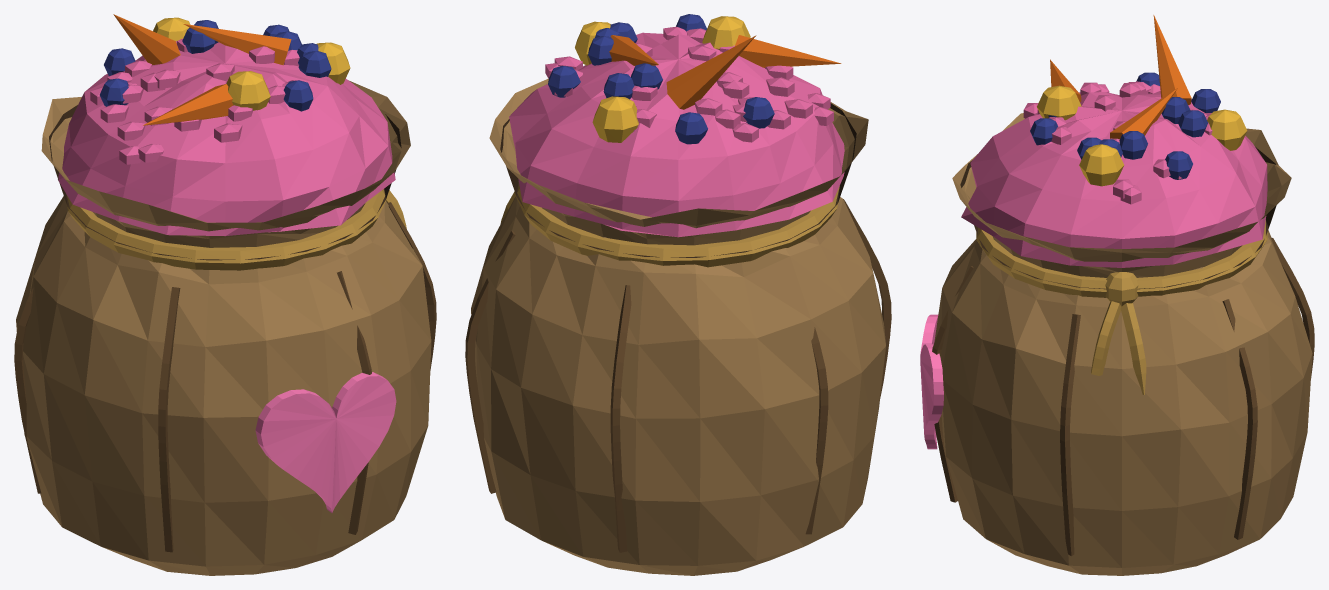
Rendered from VFP_Feed_FreyaLure.obj.
3 views of the same model, side by side, from view 1: azimuth 30°, elevation 25°; view 2: azimuth 150°, elevation 25°; view 3: azimuth 270°, elevation 25° (orthographic). The views are drawn at different scales.
Parts seen in each view (by area): view 1: Sack, Feed, Symbol, Cord, Folds, Carrots, Berries, Mush, SackInner; view 2: Sack, Feed, Folds, Cord, Berries, Carrots, Mush, SackInner; view 3: Sack, Feed, Cord, Folds, Berries, Mush, Carrots, Symbol, SackInner.
Boxes of the visible parts, box(x1,y1,x2,y2) form: Sack: box(16, 80, 431, 575); Feed: box(58, 38, 395, 236); Symbol: box(255, 372, 396, 512); Cord: box(67, 189, 406, 270); Folds: box(14, 202, 436, 552); Carrots: box(113, 14, 291, 125); Berries: box(99, 20, 331, 111); Mush: box(153, 17, 350, 110); SackInner: box(49, 105, 401, 260); Sack: box(471, 78, 885, 575); Feed: box(509, 26, 844, 237); Folds: box(465, 199, 891, 552); Cord: box(500, 185, 839, 267); Berries: box(548, 14, 774, 144); Carrots: box(609, 35, 841, 109); Mush: box(575, 16, 750, 142); SackInner: box(500, 103, 856, 257); Sack: box(934, 113, 1312, 575); Feed: box(961, 81, 1267, 267); Cord: box(976, 220, 1267, 394); Folds: box(932, 237, 1314, 555); Berries: box(1030, 72, 1220, 179); Mush: box(1037, 85, 1247, 186); Carrots: box(1050, 15, 1191, 139); Symbol: box(920, 314, 943, 449); SackInner: box(960, 147, 1276, 289).
Bounding box in the file's own units: 0.269 × 0.3644 × 0.2793.
